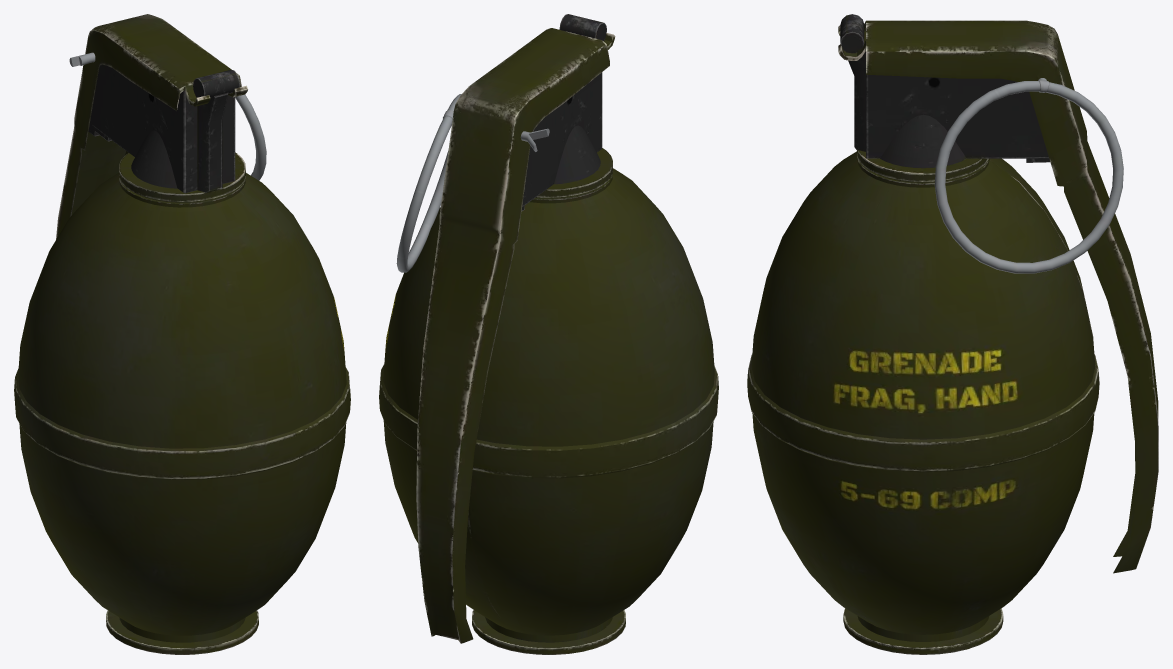
Rendered from ge_frag.gltf.
The picture shows the model from 3 angles, left to right: view 1: azimuth 30°, elevation 25°; view 2: azimuth 150°, elevation 25°; view 3: azimuth 270°, elevation 25°; orthographic projection. The views are drawn at different scales.
Parts seen in each view (by area): view 1: Grenade, Pin; view 2: Grenade, Pin; view 3: Grenade, Pin.
Boxes of the visible parts, x1=… form: Grenade: x1=14, y1=14, x2=350, y2=654; Pin: x1=69, y1=52, x2=266, y2=180; Grenade: x1=379, y1=14, x2=718, y2=654; Pin: x1=396, y1=94, x2=549, y2=272; Grenade: x1=747, y1=14, x2=1158, y2=654; Pin: x1=934, y1=78, x2=1123, y2=273.
Size of the model in its own units: 0.0544 by 0.1018 by 0.0635.
Materials: 1 (1 with a texture image).
